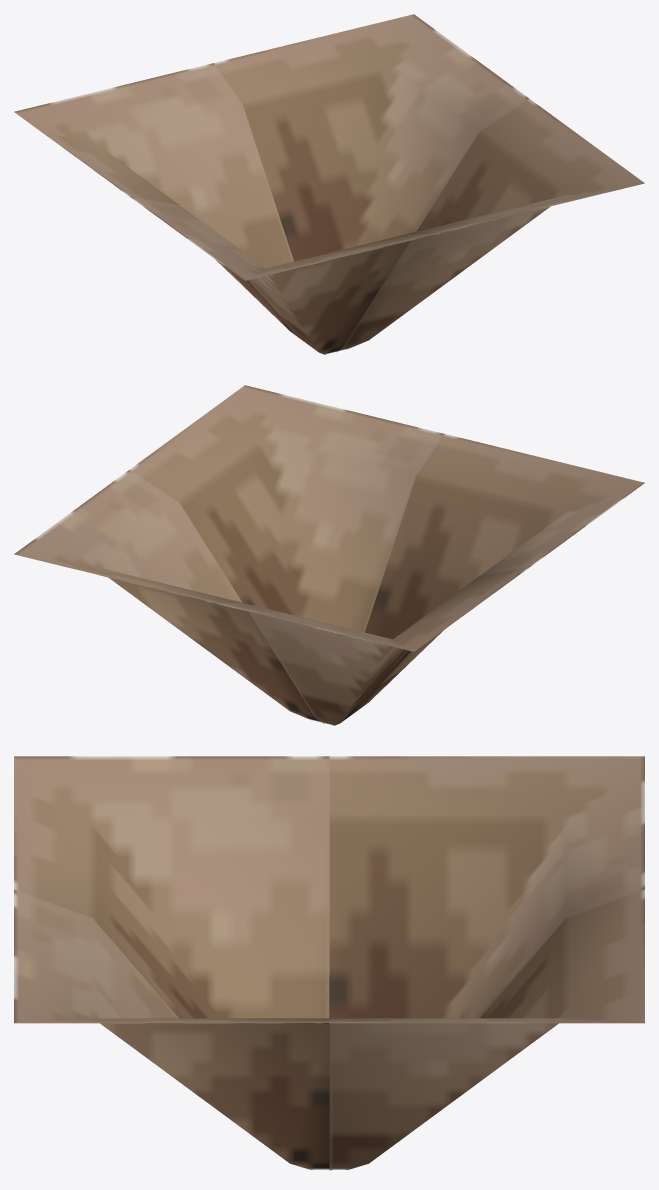
File: WorldMap - 0.fbx
The picture shows the model from 3 angles, top to bottom: view 1: azimuth 30°, elevation 25°; view 2: azimuth 150°, elevation 25°; view 3: azimuth 270°, elevation 25°; orthographic projection. The views are drawn at different scales.
Visible parts, largest first — view 1: m_cliffCornerIn_Clone__3, m_cliffCornerIn_Clone__2, m_cliffCornerIn_Clone_, m_cliffCornerIn_Clone__1; view 2: m_cliffCornerIn_Clone_, m_cliffCornerIn_Clone__1, m_cliffCornerIn_Clone__3, m_cliffCornerIn_Clone__2; view 3: m_cliffCornerIn_Clone__2, m_cliffCornerIn_Clone__1, m_cliffCornerIn_Clone__3, m_cliffCornerIn_Clone_.
Boxes of the visible parts, x1,y1,x2,y2 form: m_cliffCornerIn_Clone__3: (214, 14, 529, 261); m_cliffCornerIn_Clone__2: (14, 63, 303, 341); m_cliffCornerIn_Clone_: (336, 99, 644, 352); m_cliffCornerIn_Clone__1: (130, 196, 443, 354); m_cliffCornerIn_Clone_: (129, 385, 444, 632); m_cliffCornerIn_Clone__1: (355, 434, 644, 712); m_cliffCornerIn_Clone__3: (14, 470, 321, 722); m_cliffCornerIn_Clone__2: (215, 567, 528, 725); m_cliffCornerIn_Clone__2: (329, 756, 644, 1018); m_cliffCornerIn_Clone__1: (14, 756, 329, 1018); m_cliffCornerIn_Clone__3: (329, 890, 644, 1170); m_cliffCornerIn_Clone_: (14, 890, 329, 1170).
Size of the model in its own units: 200 by 100 by 200.
